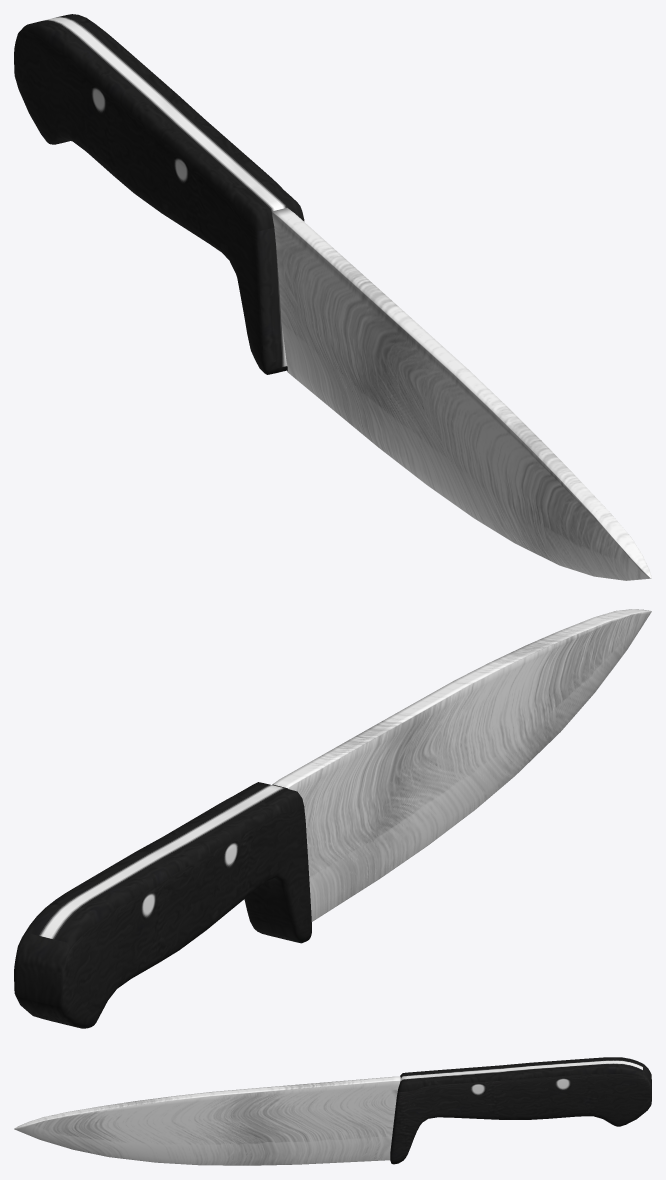
The model's file is JuniorFactory_SlicerClone_Knife_v2.fbx.
The picture shows the model from 3 angles, top to bottom: view 1: azimuth 30°, elevation 25°; view 2: azimuth 150°, elevation 25°; view 3: azimuth 270°, elevation 25°; orthographic projection. The views are drawn at different scales.
Visible parts, largest first — view 1: Blade, Tang; view 2: Blade, Tang; view 3: Blade, Tang.
Part boxes in pixels (box(x1,y1,x2,y2)): Blade: box(272, 207, 651, 580); Tang: box(14, 14, 304, 374); Blade: box(272, 609, 651, 921); Tang: box(14, 782, 311, 1028); Blade: box(14, 1076, 400, 1165); Tang: box(390, 1057, 651, 1164).
Size of the model in its own units: 22.58 by 85.98 by 480.
2 materials, 2 textured.
